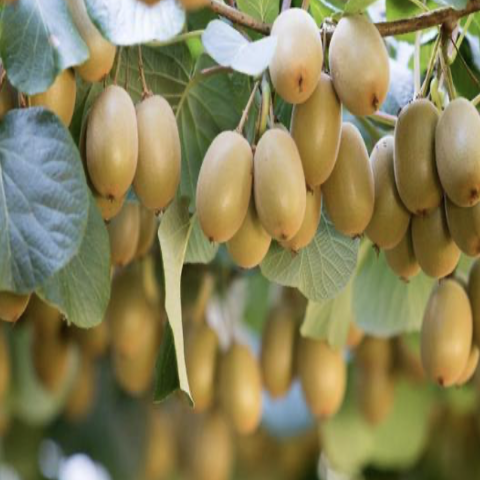kiwi: (194, 101, 260, 256), (389, 86, 456, 238), (123, 83, 189, 216), (328, 8, 395, 128), (242, 116, 307, 238), (418, 268, 477, 393), (85, 77, 138, 211)
